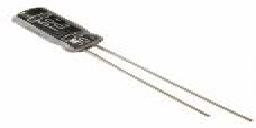Electrolytic-capacitor: (11, 4, 256, 125), (11, 4, 111, 64)
